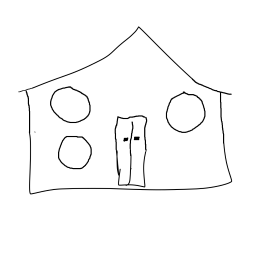door: (112, 106, 156, 192)
open_window: (156, 90, 214, 137), (42, 84, 102, 125), (52, 129, 94, 178)
single_line_roof: (15, 24, 238, 99)
wall: (21, 90, 237, 197)
